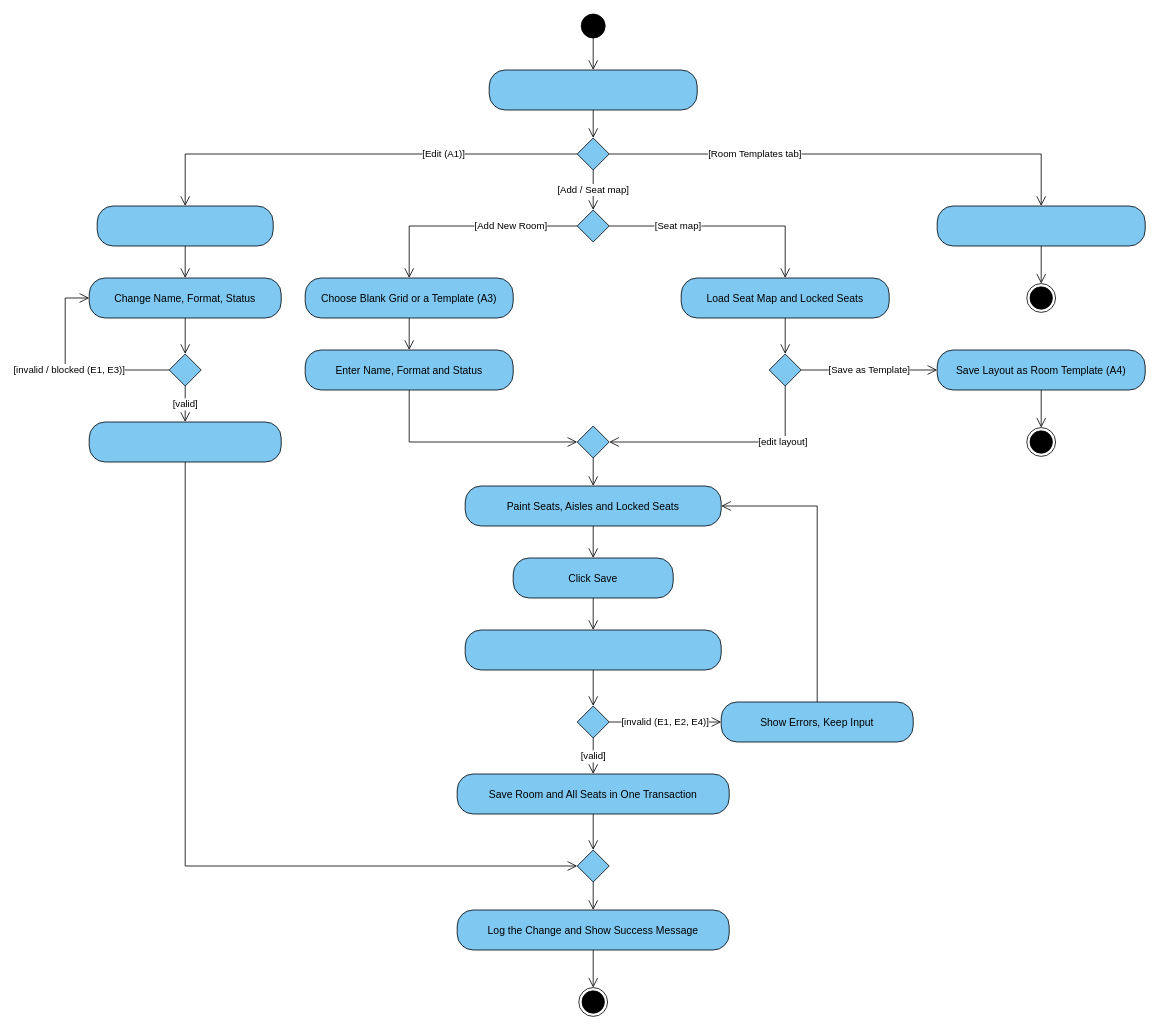
The diagram is 1159 pixels wide and 1030 high, and some of its shapes have lost their labels. Here are the shapes that lost their labels. From the top down, the centre of each, then its label:
(x=592, y=89): Open Rooms & Seat Layout
(x=184, y=225): Open Edit Dialog
(x=1040, y=225): Manage Room Templates (A5)
(x=184, y=441): Update Room Information
(x=592, y=649): Validate Room Information and Layout
